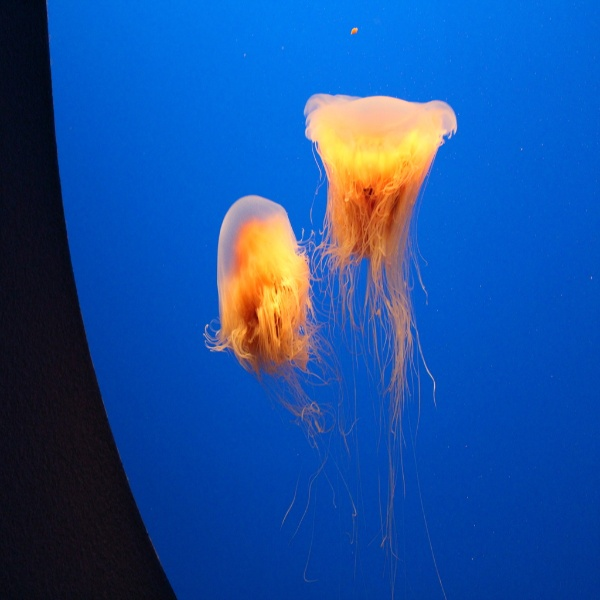Jellyfish: (301, 89, 459, 597), (206, 195, 328, 540)
